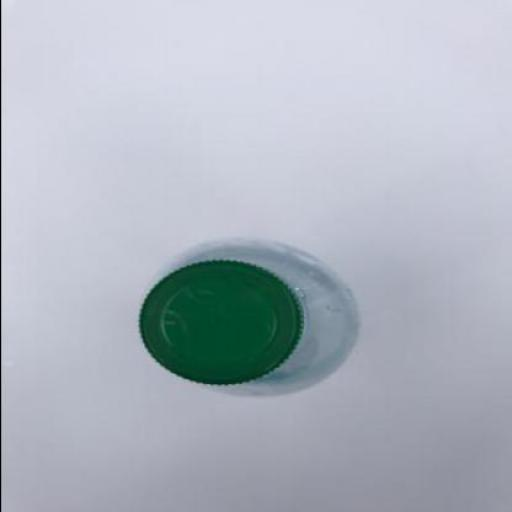plastic: (136, 236, 360, 396), (140, 258, 306, 384)
